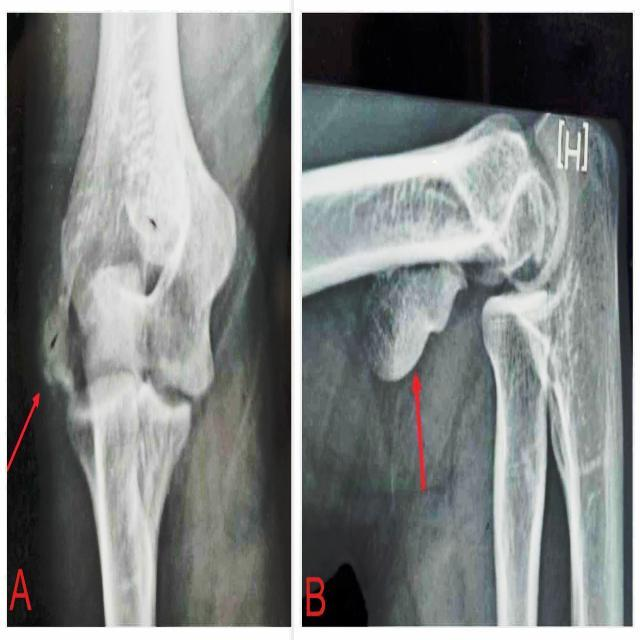Comminuted Fracture: (34, 348, 91, 420)
